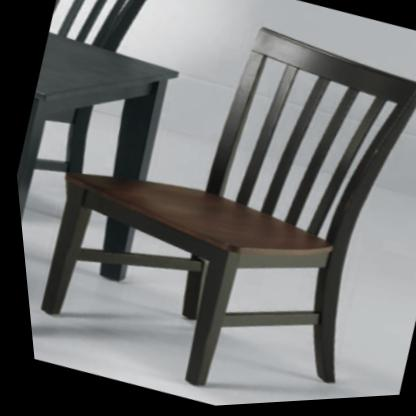Chair: (0, 0, 416, 416)
Table: (1, 3, 214, 382)
